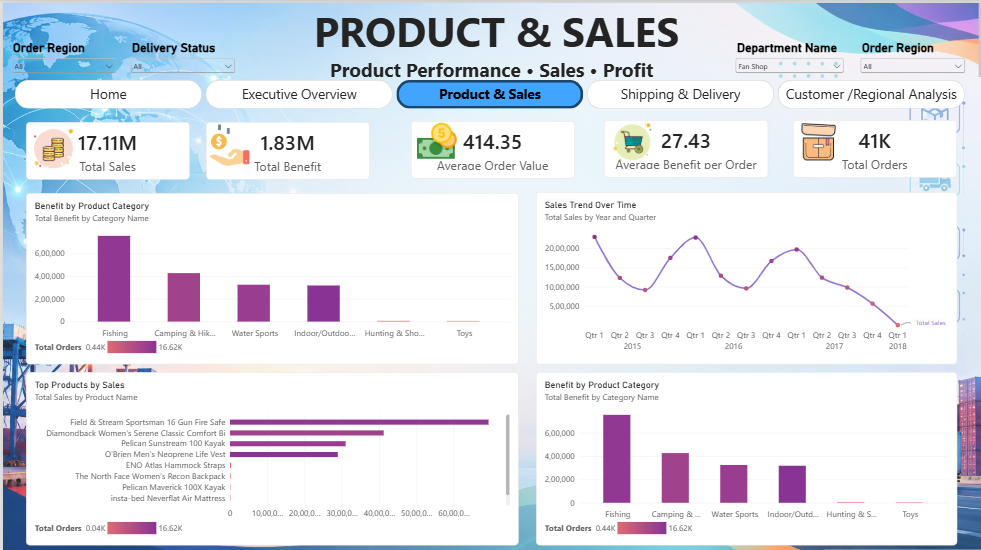

Layout of this report page (visuals, bound fields, positions):
{"tool":"powerbi","page":{"name":"Product & Sales","canvas":[1920,1080],"ordinal":2},"visuals":[{"type":"textbox","box":[0,0,1921.1,150],"z":0},{"type":"card","fields":{"Values":["Measures (2).Total Orders"]},"box":[1548.9,229.8,320.5,112.8],"z":1000},{"type":"card","fields":{"Values":["Measures (2).Total Sales"]},"box":[44.7,234,320.5,112.8],"z":2000},{"type":"card","fields":{"Values":["Measures (2).Average Benefit per Order"]},"box":[1178.7,229.8,321.8,112.8],"z":3000},{"type":"card","fields":{"Values":["Measures (2).Total Benefit"]},"box":[397.9,234,320.5,112.8],"z":4000},{"type":"card","fields":{"Values":["Measures (2).Average Order Value"]},"box":[800,231.1,320.5,112.8],"z":5000},{"type":"lineChart","title":"Sales Trend Over Time","fields":{"Category":["Dim_Order.order date.Variation.Date Hierarchy.Year","Dim_Order.order date.Variation.Date Hierarchy.Quarter"],"Y":["Measures (2).Total Sales"]},"box":[1044.7,370.2,825.5,338.3],"z":6000},{"type":"clusteredBarChart","title":"Top Products by Sales","fields":{"Category":["Dim_Product.Product Name"],"Y":["Measures (2).Total Sales"]},"box":[44.7,723.4,966,340.4],"z":7000},{"type":"clusteredColumnChart","title":"Benefit by Product Category","fields":{"Category":["Dim_Product.Category Name"],"Y":["Measures (2).Total Benefit"]},"box":[44.7,372.3,966,336.2],"z":8000},{"type":"clusteredColumnChart","title":" Benefit by Product Category","fields":{"Category":["Dim_Product.Category Name"],"Y":["Measures (2).Total Benefit"]},"box":[1044.7,723.4,825.5,340.4],"z":9000},{"type":"slicer","fields":{"Values":["Dim_Order.Order Region"]},"box":[12.3,74.6,214.9,70.2],"z":10000},{"type":"slicer","fields":{"Values":["Fact_Supply_Chain_Dataset.Delivery Status"]},"box":[245.6,74.6,214.9,70.2],"z":11000},{"type":"slicer","fields":{"Values":["Dim_Order.Order Region"]},"box":[1677.2,74.6,214.9,70.2],"z":12000},{"type":"slicer","fields":{"Values":["Dim_Department.Department Name"]},"box":[1431.6,74.6,221.9,70.2],"z":13000},{"type":"image","box":[1168.6,225.1,131,94.8],"z":14000},{"type":"image","box":[48.1,228.6,100.3,112.9],"z":15000},{"type":"image","box":[404.2,237.1,80.5,82.9],"z":16000},{"type":"image","box":[1553.7,231.4,91.2,93.4],"z":17000},{"type":"image","box":[799.4,225.4,117.2,89.3],"z":18000},{"type":"pageNavigator","box":[23.5,151,1866.7,56.9],"z":19000}]}

Visuals, with their boxes in screenshot pixels (x1, y1, x2, y2), scaled from the page's 1920x1080 canvas onto the 981x550 screenshot:
textbox: BBox(0, 0, 980, 76)
card - Measures (2).Total Orders: BBox(791, 117, 955, 174)
card - Measures (2).Total Sales: BBox(23, 119, 187, 177)
card - Measures (2).Average Benefit per Order: BBox(602, 117, 767, 174)
card - Measures (2).Total Benefit: BBox(203, 119, 367, 177)
card - Measures (2).Average Order Value: BBox(409, 118, 573, 175)
"Sales Trend Over Time" lineChart: BBox(534, 189, 956, 361)
"Top Products by Sales" clusteredBarChart: BBox(23, 368, 516, 542)
"Benefit by Product Category" clusteredColumnChart: BBox(23, 190, 516, 361)
" Benefit by Product Category" clusteredColumnChart: BBox(534, 368, 956, 542)
slicer - Dim_Order.Order Region: BBox(6, 38, 116, 74)
slicer - Fact_Supply_Chain_Dataset.Delivery Status: BBox(125, 38, 235, 74)
slicer - Dim_Order.Order Region: BBox(857, 38, 967, 74)
slicer - Dim_Department.Department Name: BBox(731, 38, 845, 74)
image: BBox(597, 115, 664, 163)
image: BBox(25, 116, 76, 174)
image: BBox(207, 121, 248, 163)
image: BBox(794, 118, 840, 165)
image: BBox(408, 115, 468, 160)
pageNavigator: BBox(12, 77, 966, 106)
